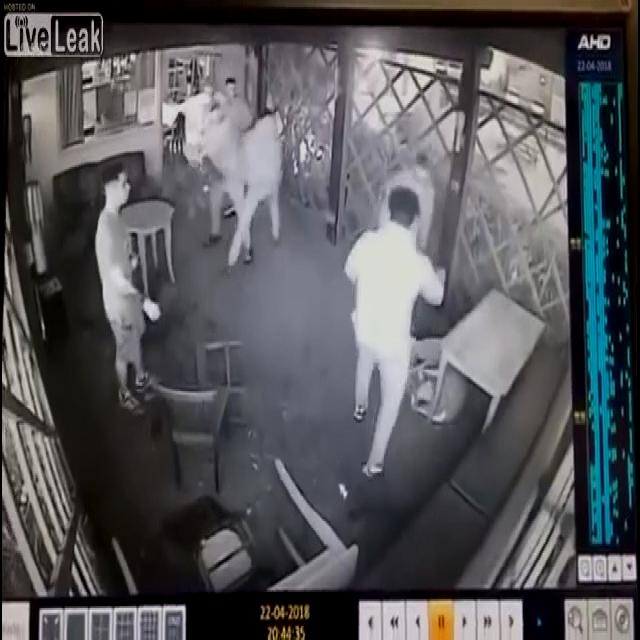fight: (345, 148, 444, 488)
